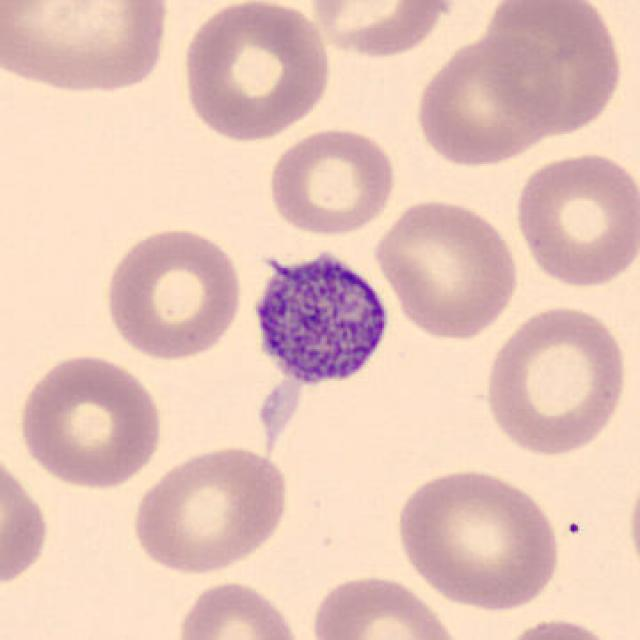Platelets: (240, 236, 398, 400)
RBC: (391, 464, 564, 612), (480, 300, 631, 458), (176, 0, 336, 145), (126, 441, 294, 576), (370, 194, 521, 342), (14, 349, 167, 492), (412, 28, 566, 169), (100, 222, 246, 363), (480, 2, 628, 138), (510, 148, 638, 291), (0, 0, 174, 99), (263, 123, 400, 238), (308, 571, 466, 640), (306, 0, 455, 60), (170, 576, 307, 640), (0, 442, 53, 595), (491, 615, 624, 640), (624, 458, 640, 596)
